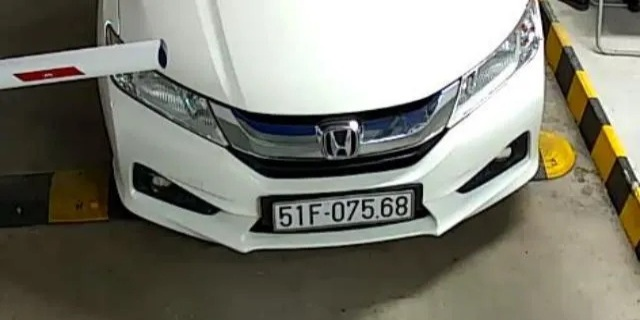bien_so: (274, 195, 414, 228)
